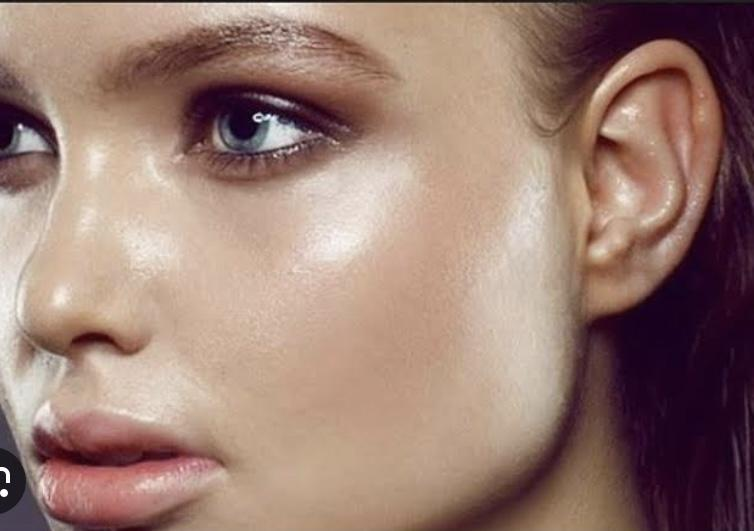Oily-Skin: (181, 221, 339, 356), (50, 204, 159, 391), (401, 184, 504, 364), (387, 21, 489, 190), (249, 414, 387, 507), (30, 41, 104, 160)
